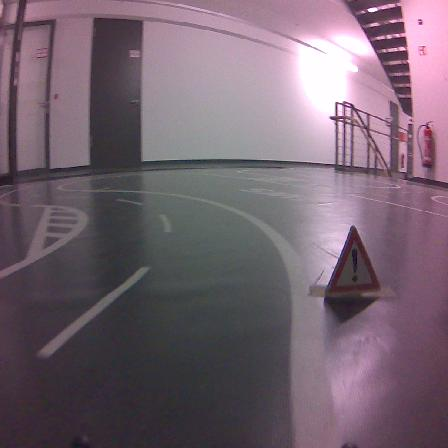ATTENTION: (325, 226, 379, 294)
